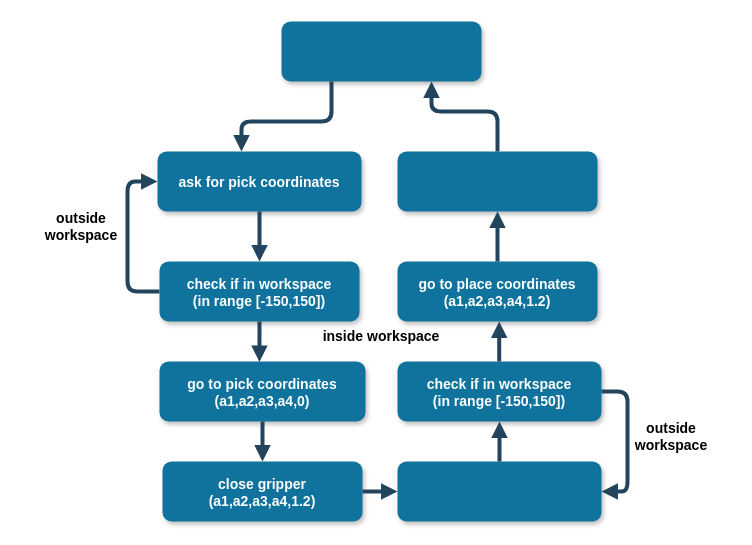
Some shapes in this 752 by 545 pixel diagram are drawn without their labels. Each missing label, with the centre of its shape:
"ask for place coordinates" goes at [500,492].
"idle state (0,pi/3,0,pi/3,0)" goes at [382,52].
"open gripper (a1,a2,a3,a4,0)" goes at [498,182].
